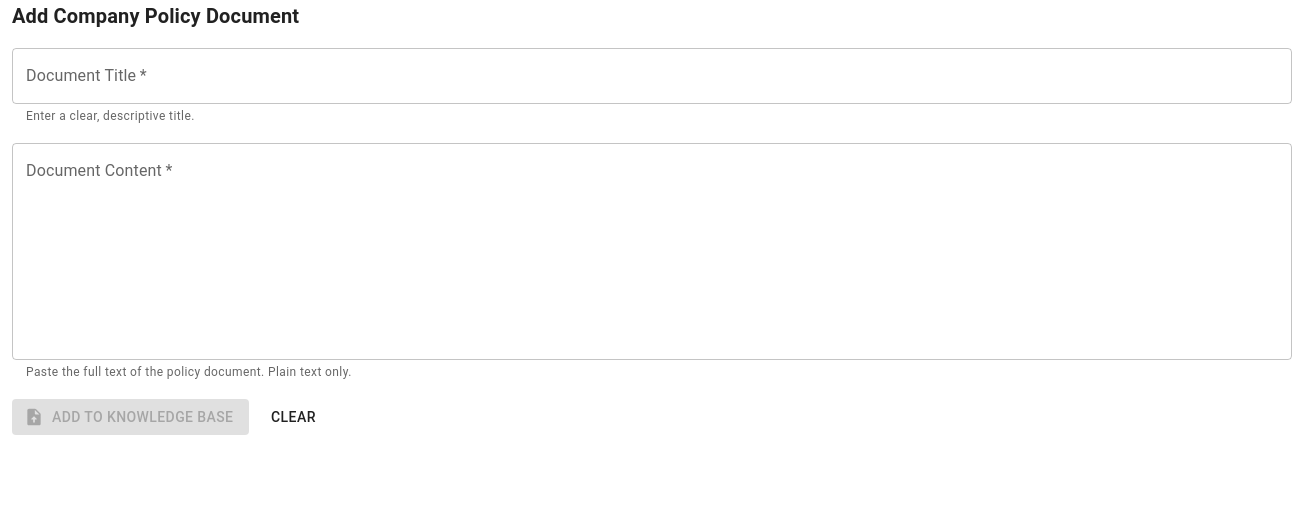
Test case: CompanyPolicyForm › Submission › shows 403 permission message on authorization error
Type "Employee Attendance Policy" into the field labelled "Document Title *" at (652, 76), box [12,48,1292,104]
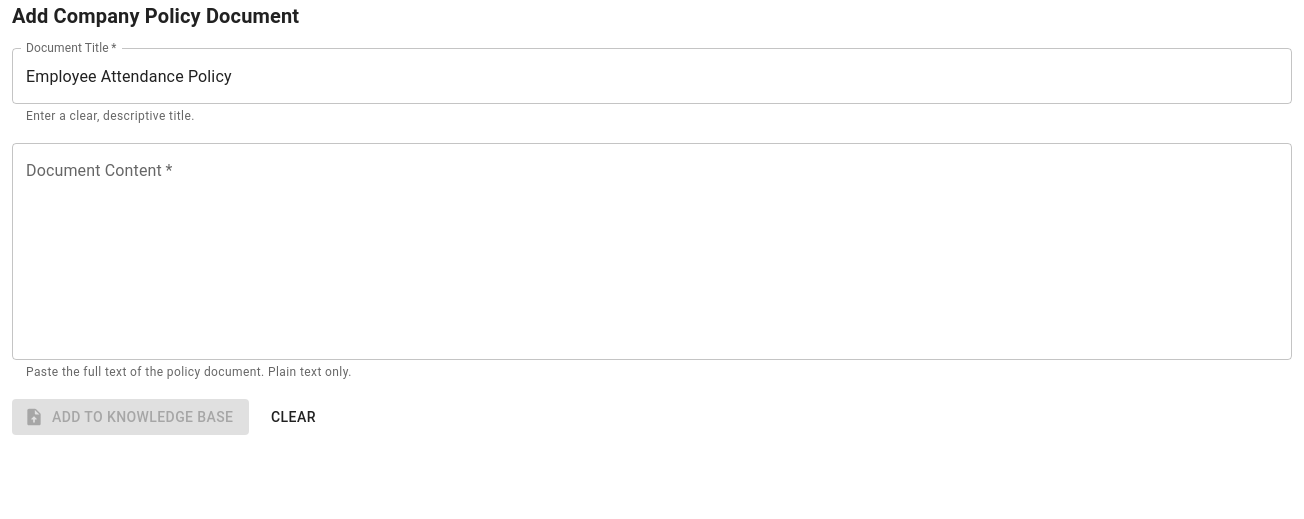
Type "Employees must record attendance daily through the portal." into the text box labelled "Document Content *" at (652, 251), box [26,159,1278,343]
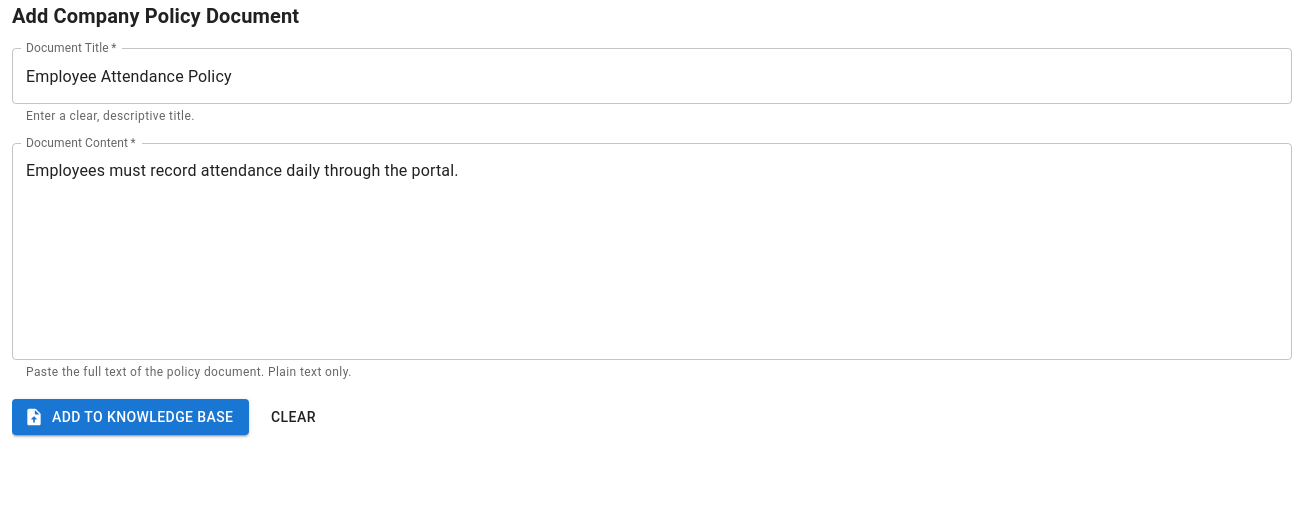
Click the button with aria-label "submit document" at (131, 417), box [12,399,249,435]
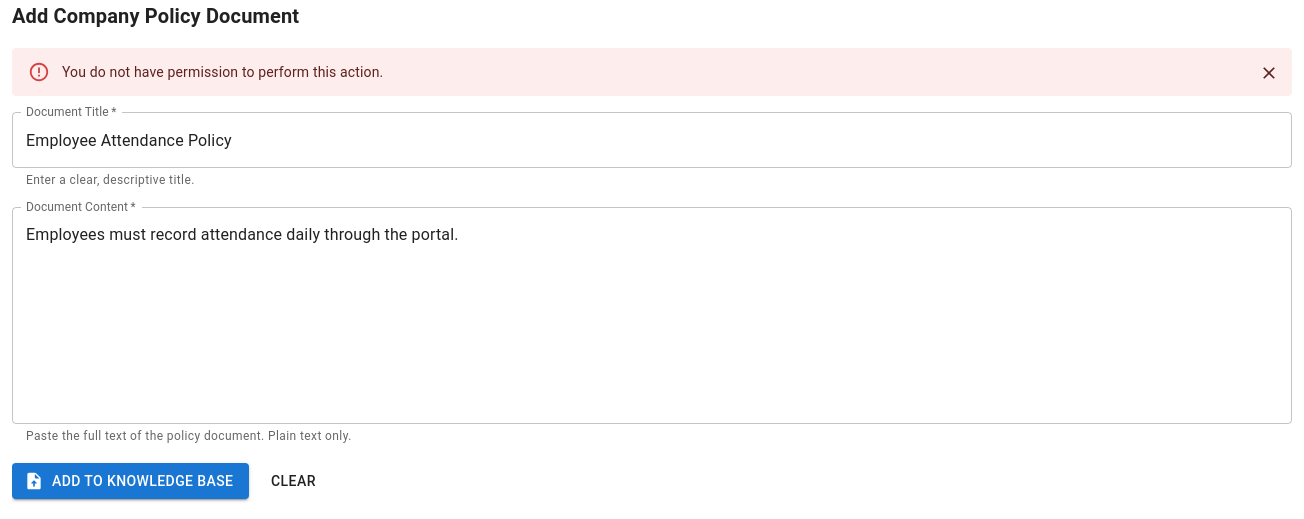
Expected: the message named "submission error" shows "permission", [62,64,383,80]
